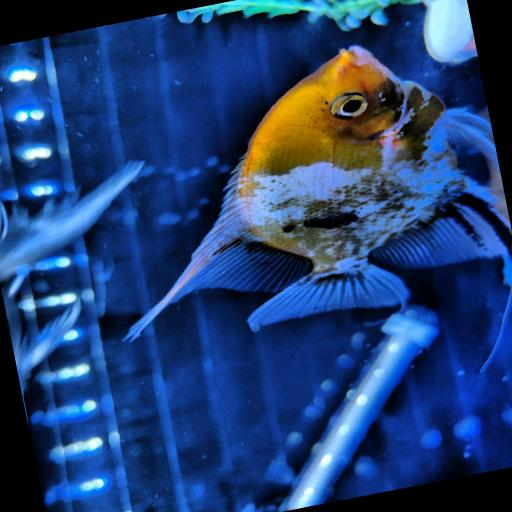Fish: (127, 46, 507, 338), (0, 162, 142, 377)
